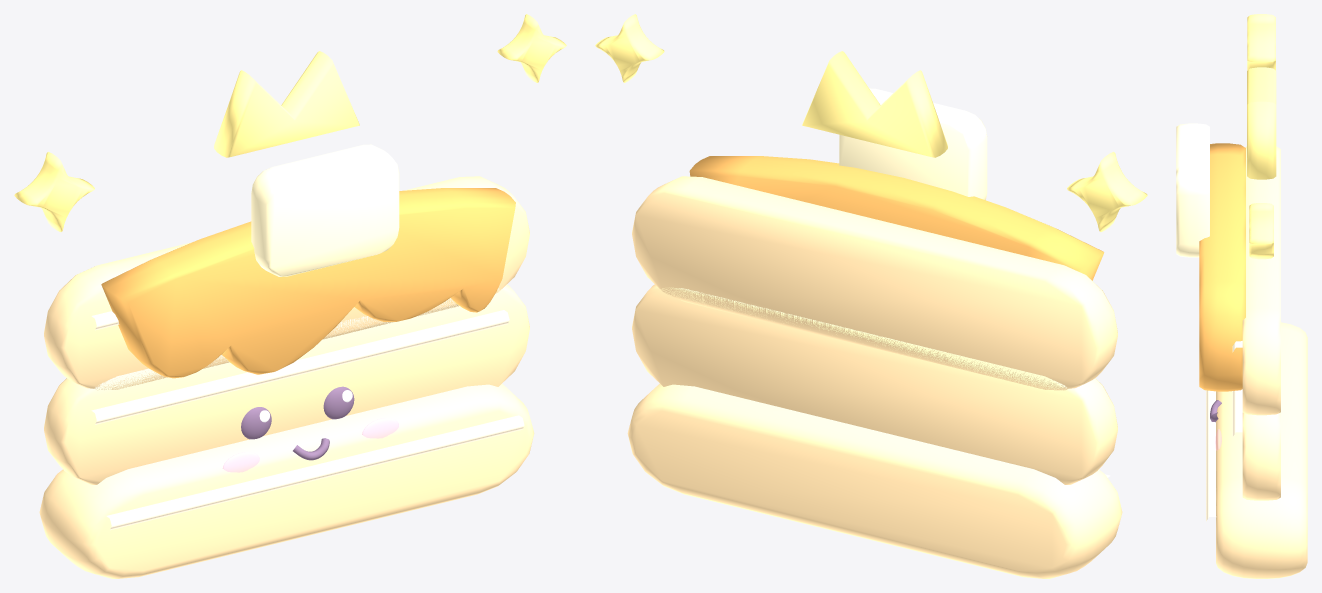
File: life_pancake.glb
3 views of the same model, side by side, from view 1: azimuth 30°, elevation 25°; view 2: azimuth 150°, elevation 25°; view 3: azimuth 270°, elevation 25° (orthographic). The views are drawn at different scales.
Visible parts, largest first — view 1: wrap_pancake_1, object 3, object 1; view 2: wrap_pancake_1; view 3: wrap_pancake_1.
Part boxes in pixels (x1,y1,x2,y2): wrap_pancake_1: (14,14,566,578); object 3: (323,386,354,419); object 1: (241,407,271,439); wrap_pancake_1: (595,14,1147,578); wrap_pancake_1: (1176,14,1307,578).
Size of the model in its own units: 3.61 by 2.94 by 0.8442.
